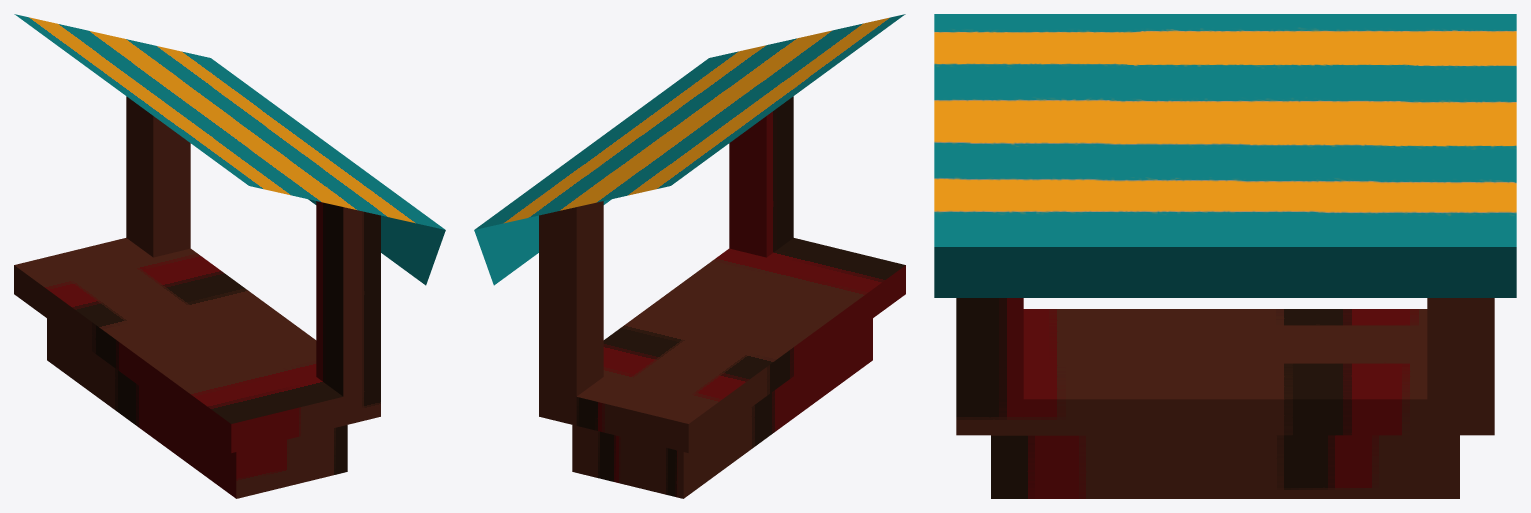
File: Stand.glb
The picture shows the model from 3 angles, left to right: view 1: azimuth 30°, elevation 25°; view 2: azimuth 150°, elevation 25°; view 3: azimuth 270°, elevation 25°; orthographic projection. The views are drawn at different scales.
Parts seen in each view (by area): view 1: Cube, Plane; view 2: Cube, Plane; view 3: Plane, Cube.
Part boxes in pixels (left/top/right/bottom): Cube: left=14, top=96, right=380, bottom=498; Plane: left=14, top=14, right=445, bottom=285; Cube: left=539, top=96, right=905, bottom=498; Plane: left=474, top=14, right=905, bottom=285; Plane: left=934, top=14, right=1516, bottom=297; Cube: left=956, top=298, right=1494, bottom=498.
Bounding box in the file's own units: 3.7 × 5.7 × 7.31.
Materials: 2 (2 with a texture image).
